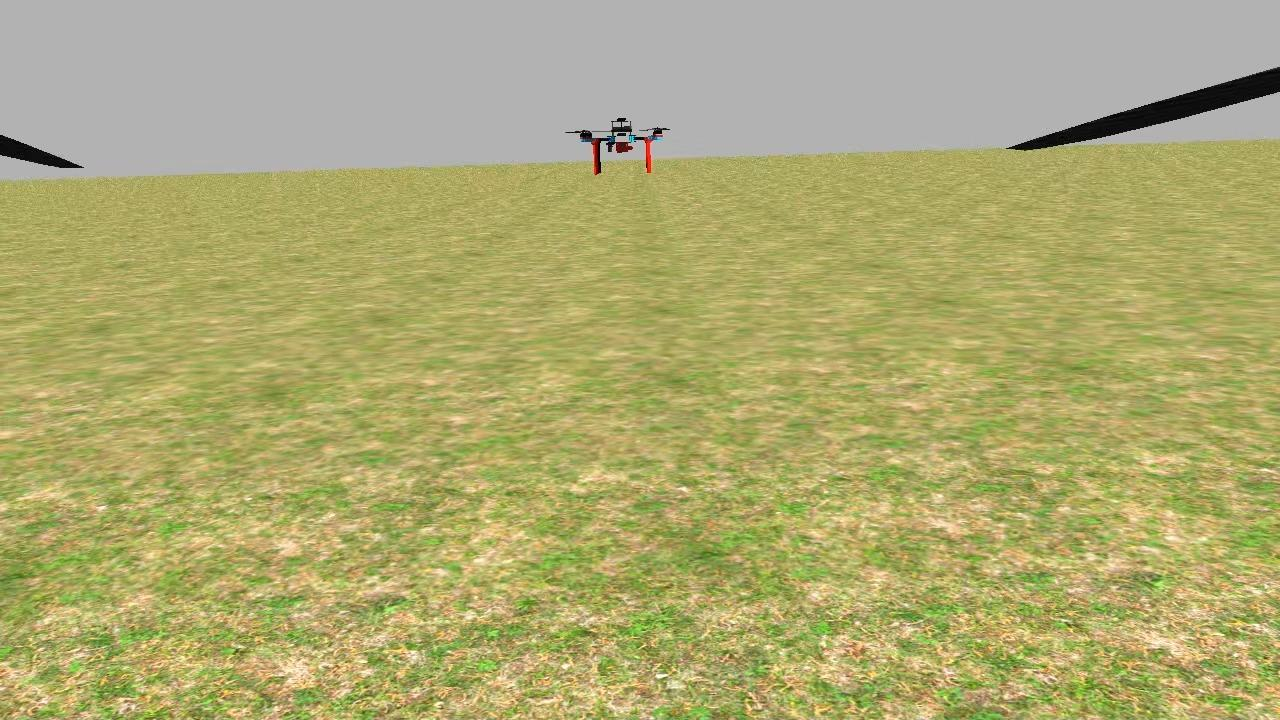UAV: (576, 110, 669, 179)
